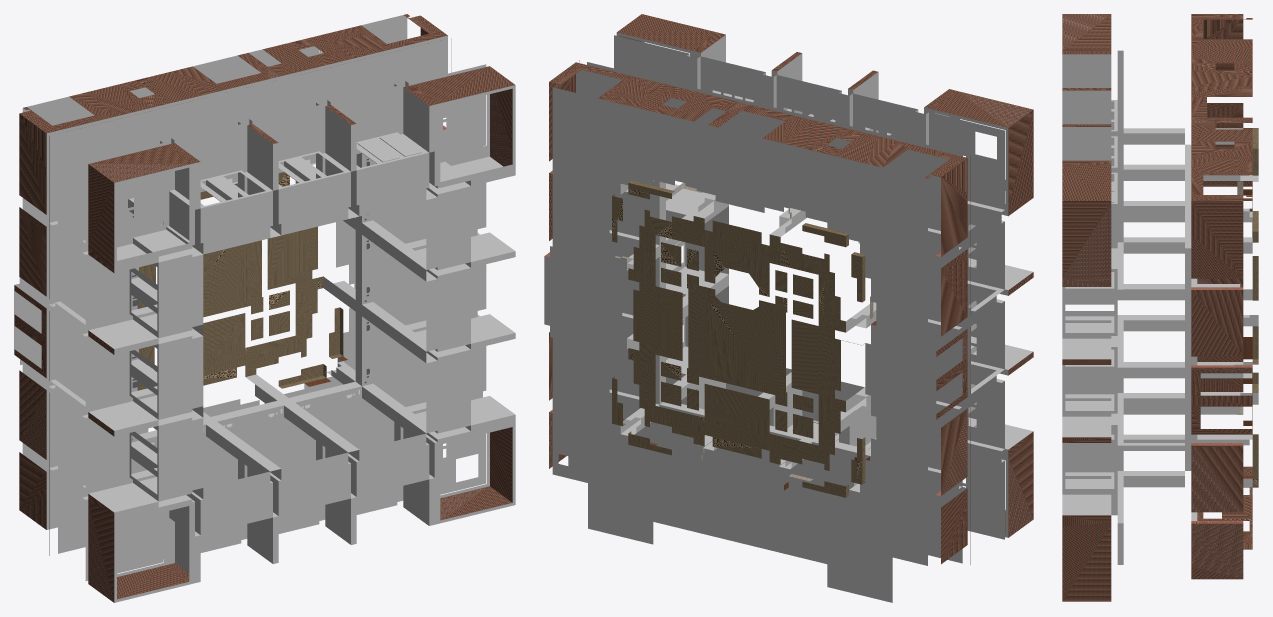
The model's file is DM-W-Grove-2025.obj.
The picture shows the model from 3 angles, left to right: view 1: azimuth 30°, elevation 25°; view 2: azimuth 150°, elevation 25°; view 3: azimuth 270°, elevation 25°; orthographic projection. The views are drawn at different scales.
Bounding box in the file's own units: 2304 × 2432 × 1024.
